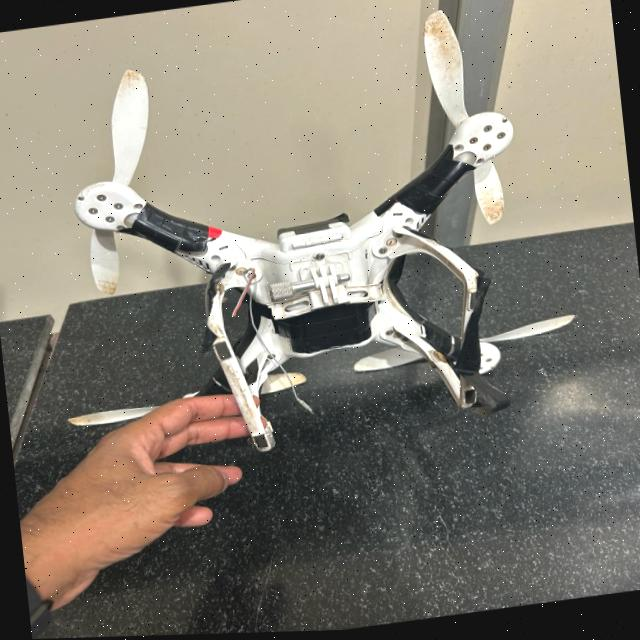drone: (0, 0, 631, 501)
